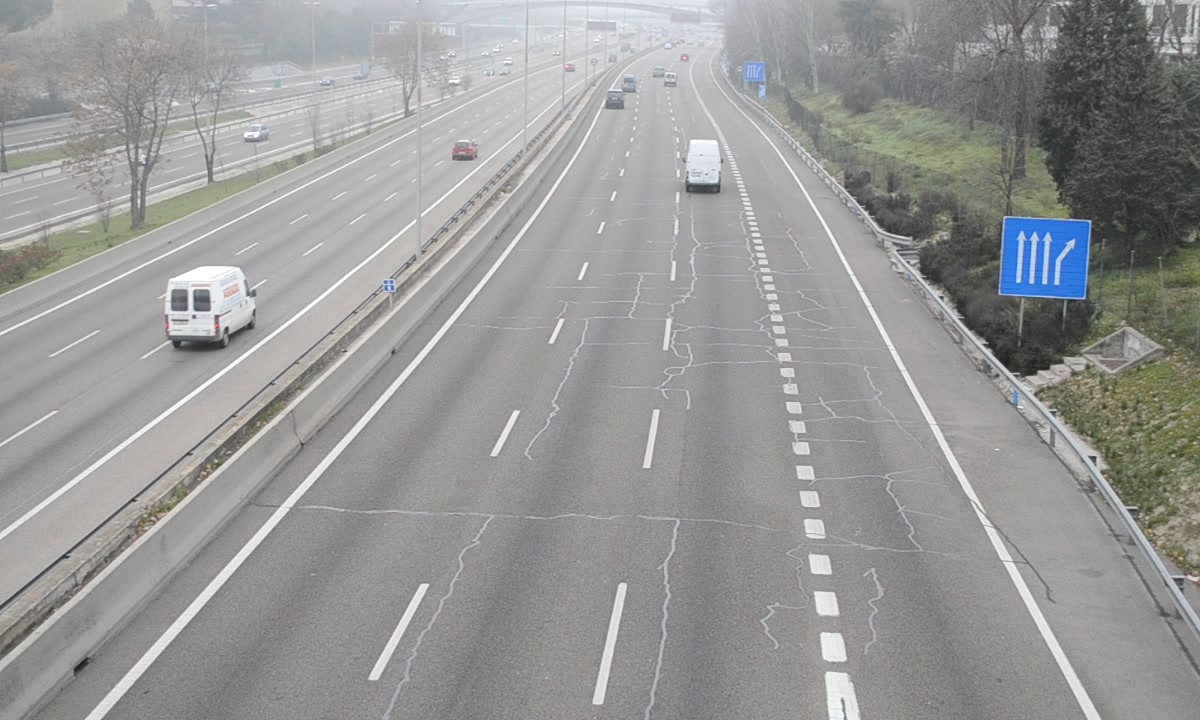van: (684, 138, 725, 187)
